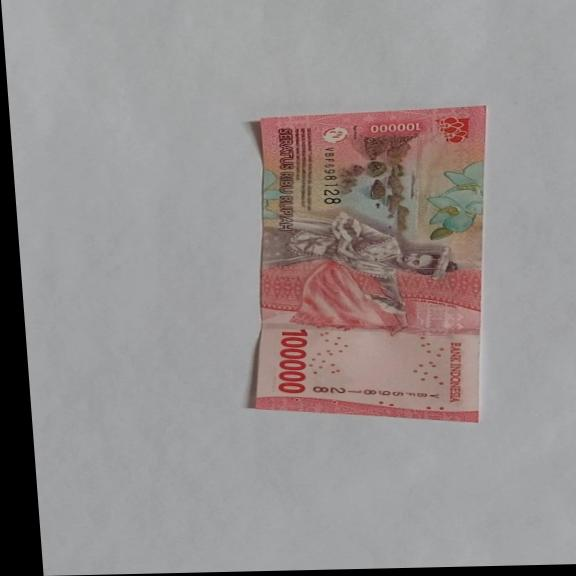Kertas: (226, 105, 511, 428), (272, 328, 314, 395)
